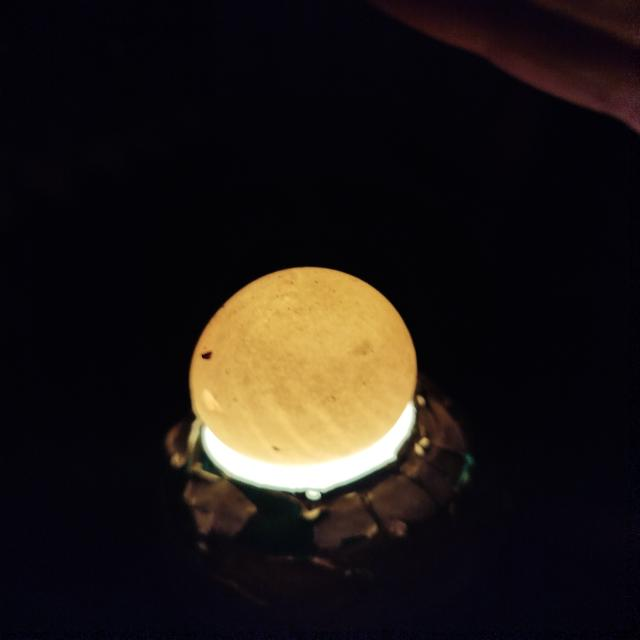Rachadura: (203, 387, 223, 412)
